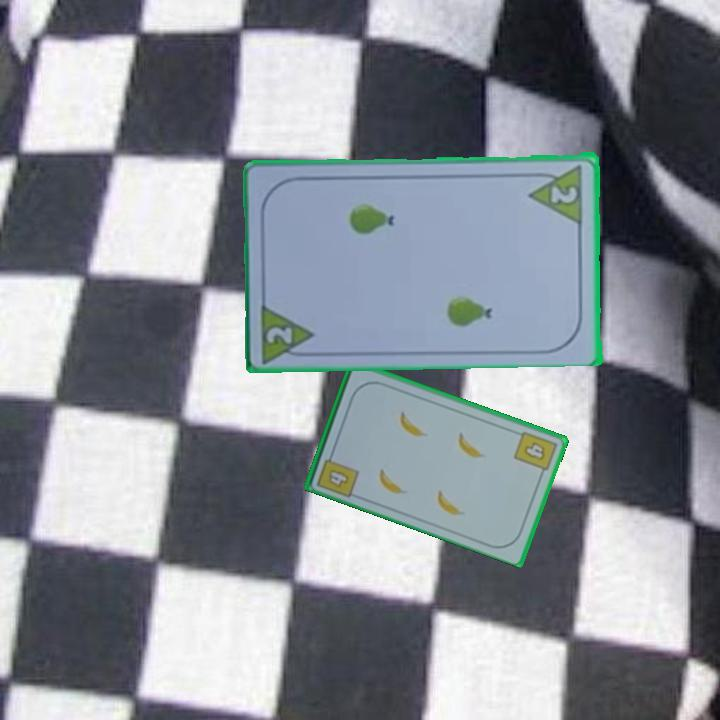2p: (526, 160, 586, 225), (262, 323, 296, 347)
4b: (510, 427, 560, 479), (313, 447, 362, 500)
